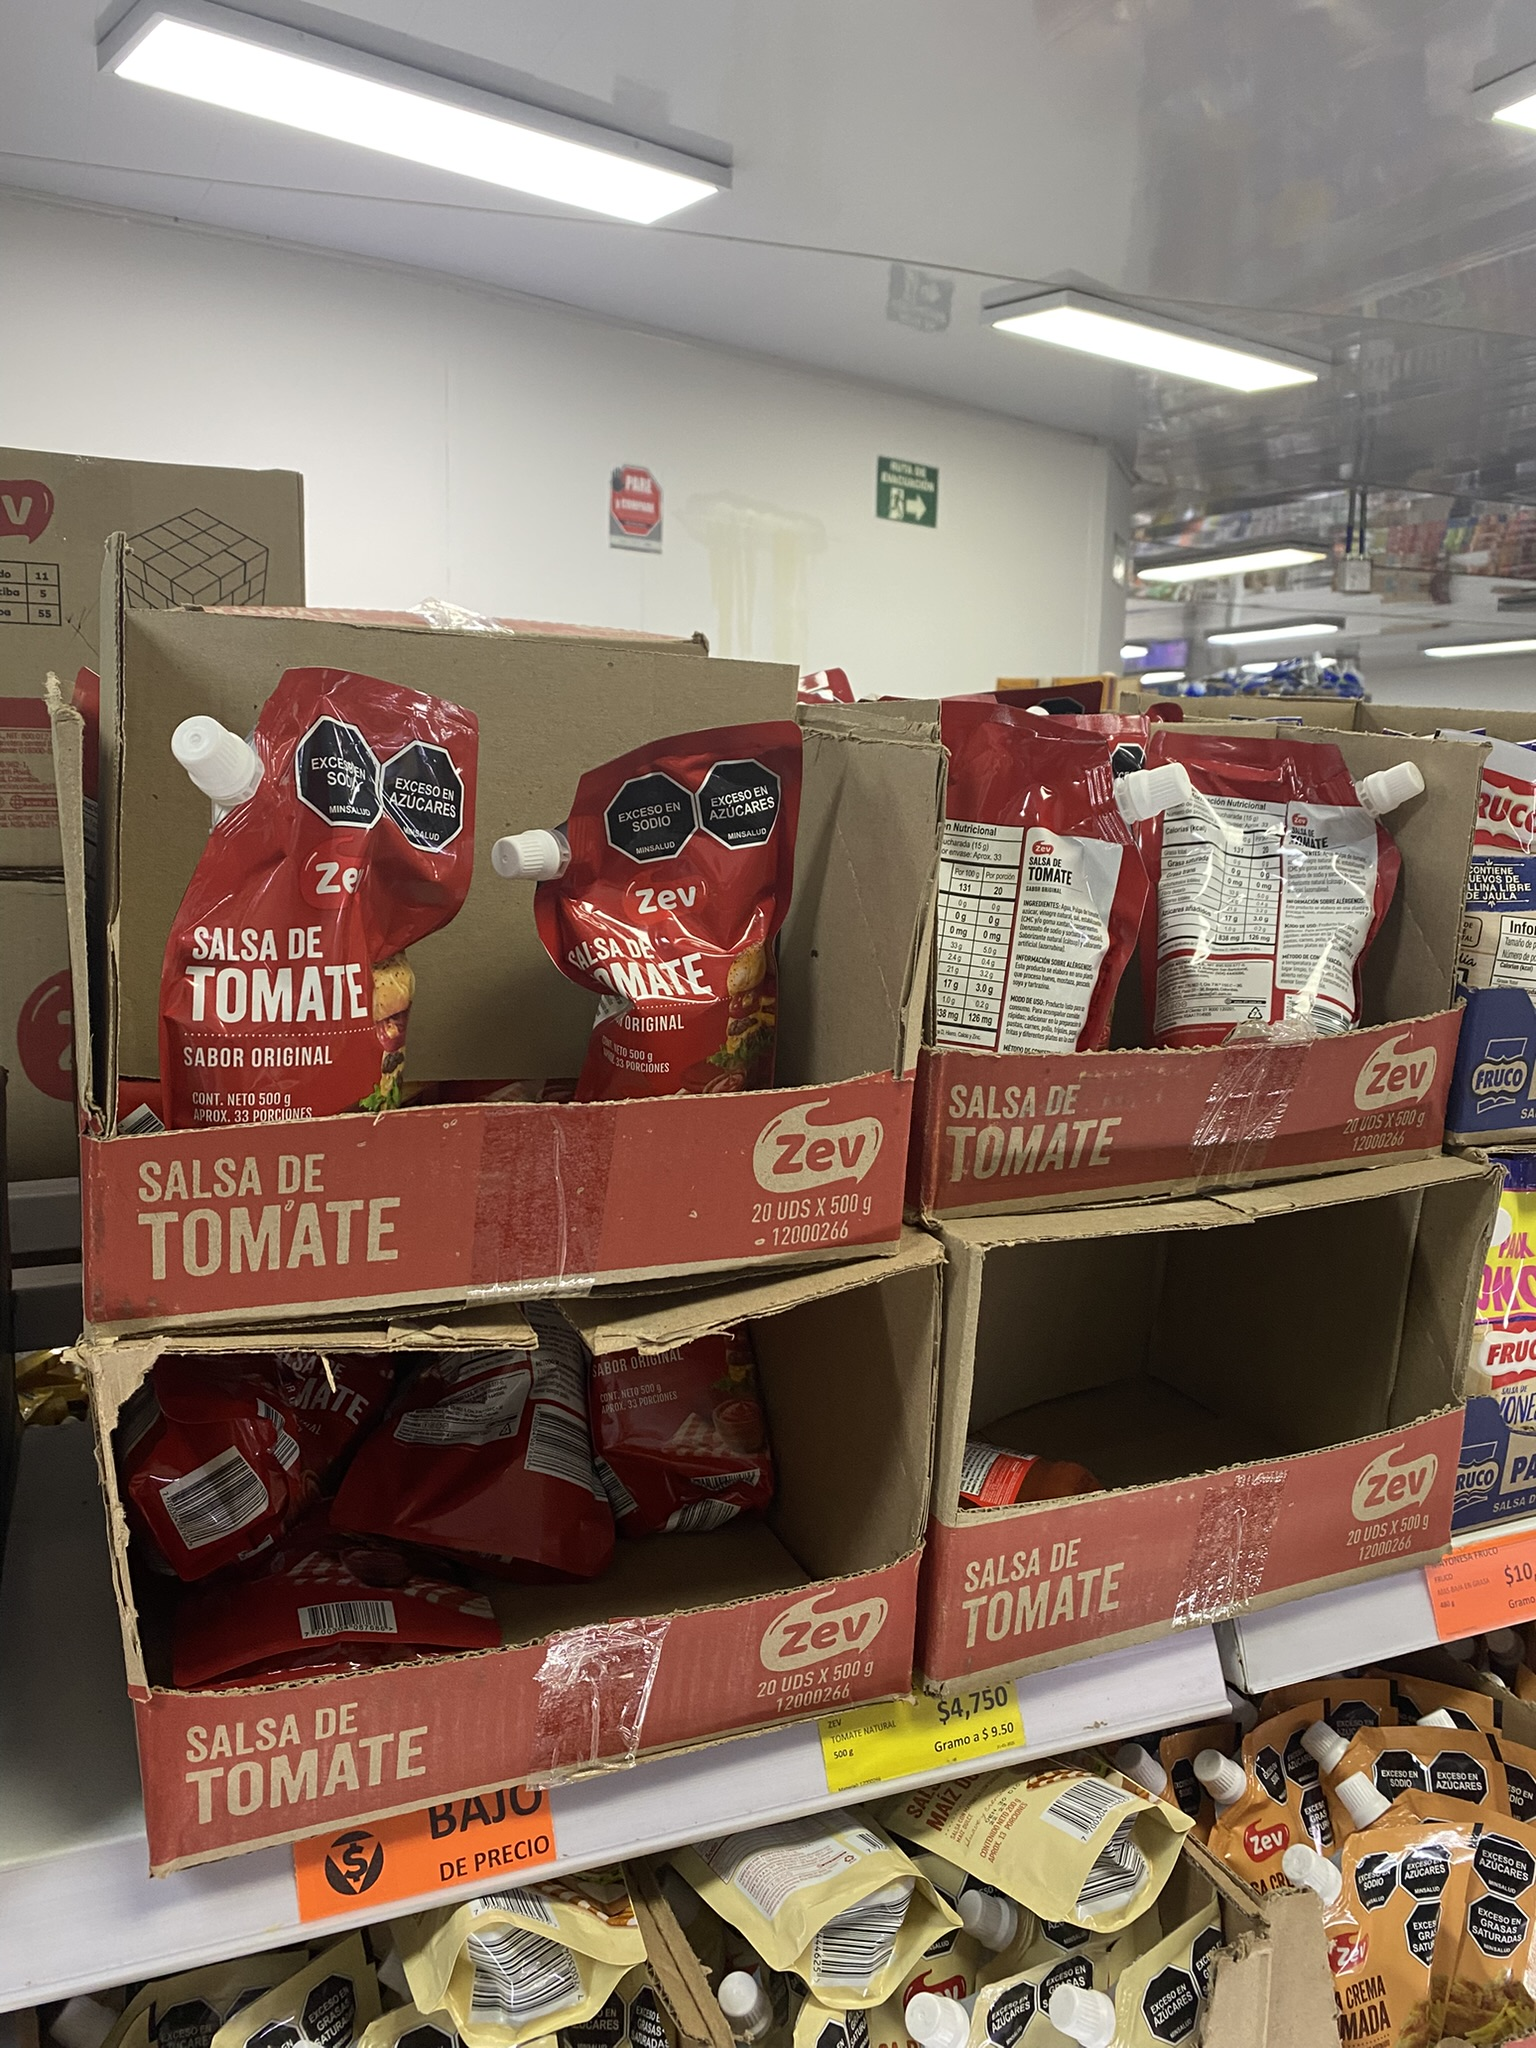Salsa de Tomate: (145, 681, 508, 1145), (507, 713, 824, 1118), (1147, 718, 1431, 1084), (921, 681, 1167, 1095)
